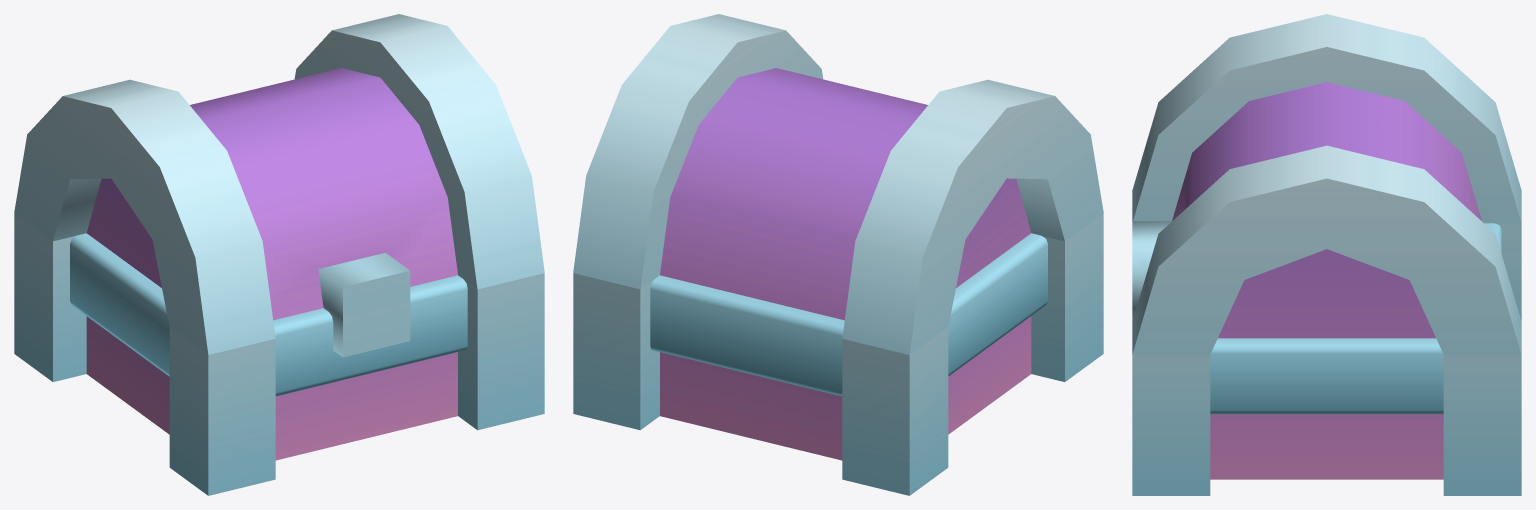
The model's file is chest.fbx.
The picture shows the model from 3 angles, left to right: view 1: azimuth 30°, elevation 25°; view 2: azimuth 150°, elevation 25°; view 3: azimuth 270°, elevation 25°; orthographic projection.
Visible parts, largest first — view 1: lid, chest; view 2: lid, chest; view 3: lid, chest.
Boxes of the visible parts, <box> form: lid: <box>14,14,544,357</box>; chest: <box>14,213,544,495</box>; lid: <box>573,14,1103,354</box>; chest: <box>573,213,1103,495</box>; lid: <box>1132,14,1521,354</box>; chest: <box>1132,223,1521,495</box>.
Size of the model in its own units: 50 by 45 by 50.
